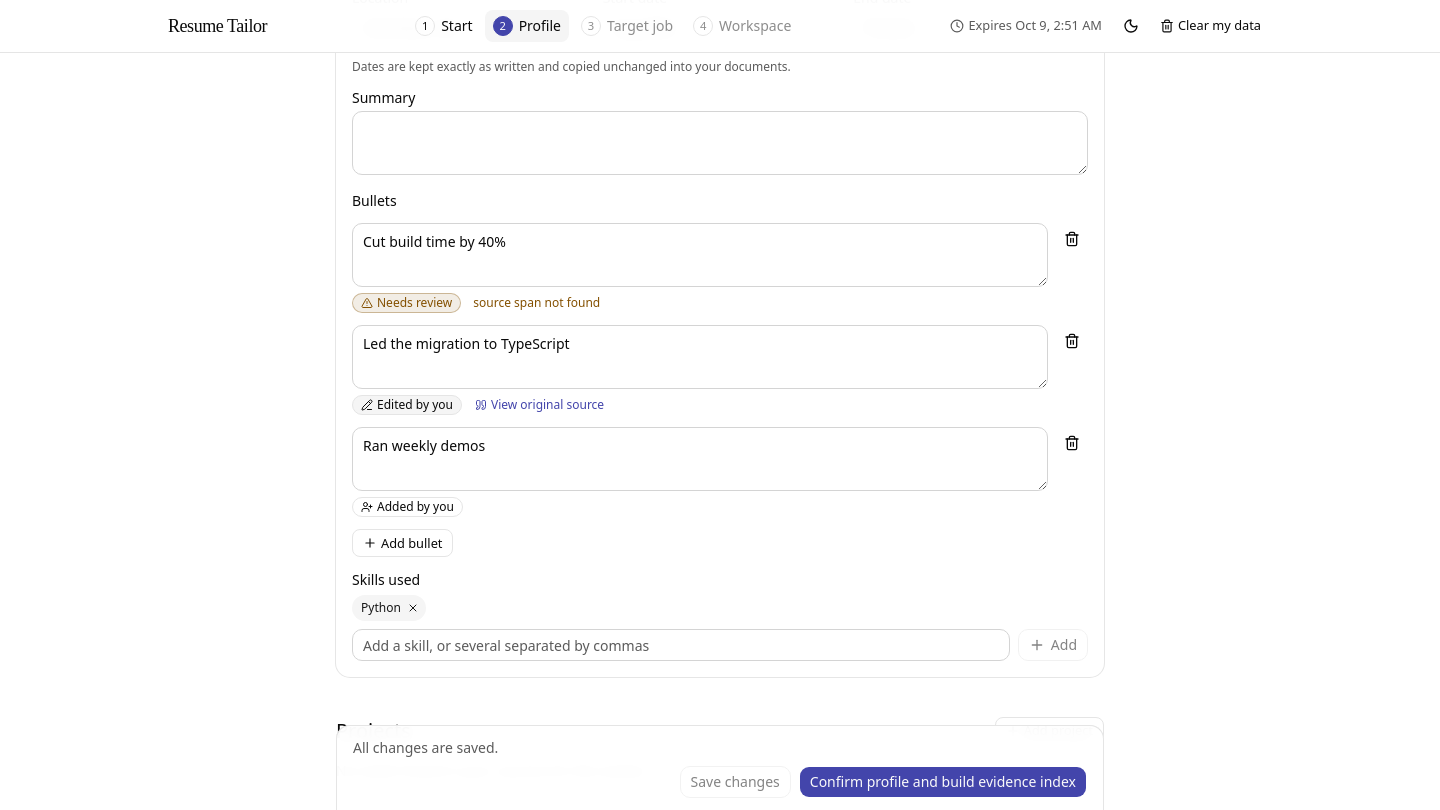
Test case: ProfilePage records › shows needs-review reasons and the "Edited by you" badge
The image size is (1440, 810).
(page scrolled)
Expected: the text "source span not found" is shown, left=473, top=295, right=600, bottom=311
Expected: the text "Edited by you" is shown, left=352, top=395, right=462, bottom=415
# The edited bullet still links to the wording it was extracted from.
Click the button "View original source" at (540, 405), box left=474, top=396, right=605, bottom=414
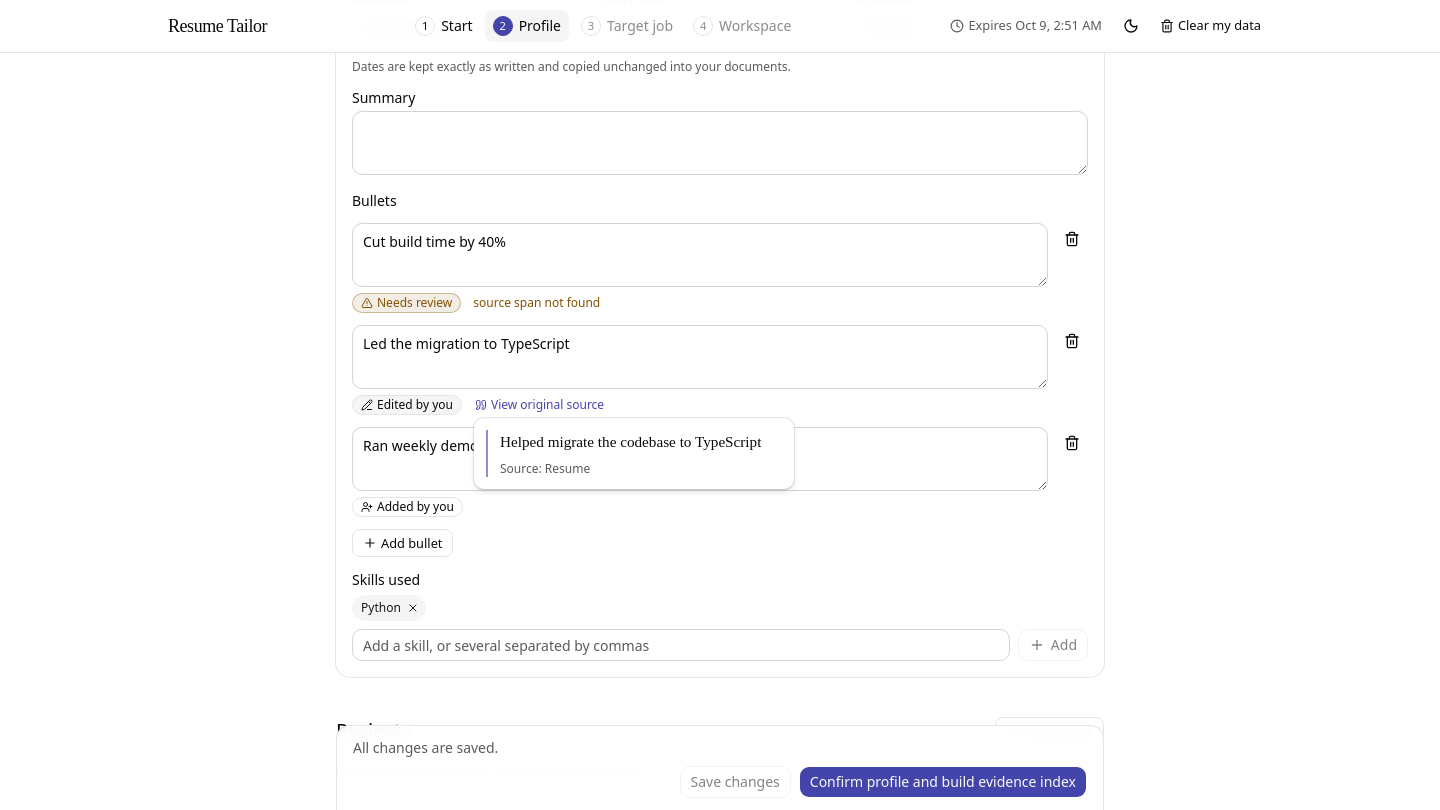
Now the text "Helped migrate the codebase to TypeScript" is shown, box left=500, top=430, right=782, bottom=455
